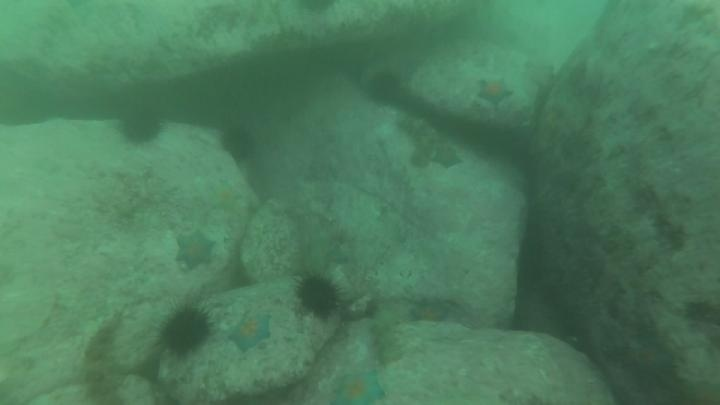echinus: (155, 302, 215, 359), (294, 272, 343, 319), (116, 102, 166, 147), (217, 122, 259, 165), (363, 69, 405, 107), (294, 0, 338, 18)
holothurian: (78, 312, 126, 404), (368, 300, 409, 367)
starfish: (617, 330, 677, 386), (330, 367, 387, 405), (225, 310, 275, 353), (172, 228, 219, 272), (204, 177, 244, 214), (473, 75, 515, 109), (407, 297, 452, 327), (427, 140, 465, 171)
